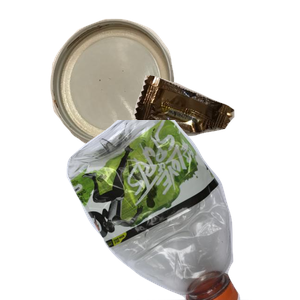glass: (115, 120, 300, 300)
metal: (47, 16, 214, 157)
plastic: (64, 120, 300, 300)
trash: (131, 73, 300, 202)
